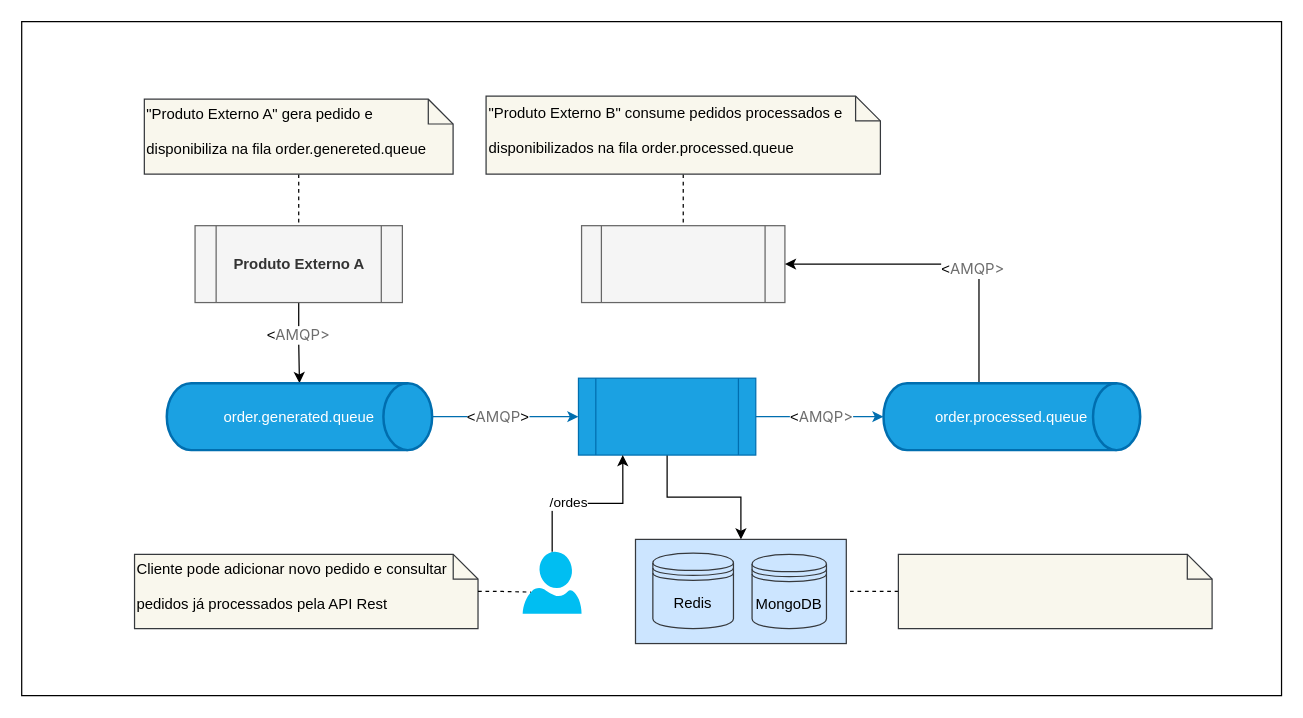
This 1303x718 diagram has some shape labels left out. The centre of each missing label's shape, as x and y in pixels:
Cliente HTTP: the point at 551,582
order-api: the point at 666,416
order-api só consulta na base de dados se registro ainda não estiver no cache: the point at 1054,591
Produto Externo B: the point at 682,263
